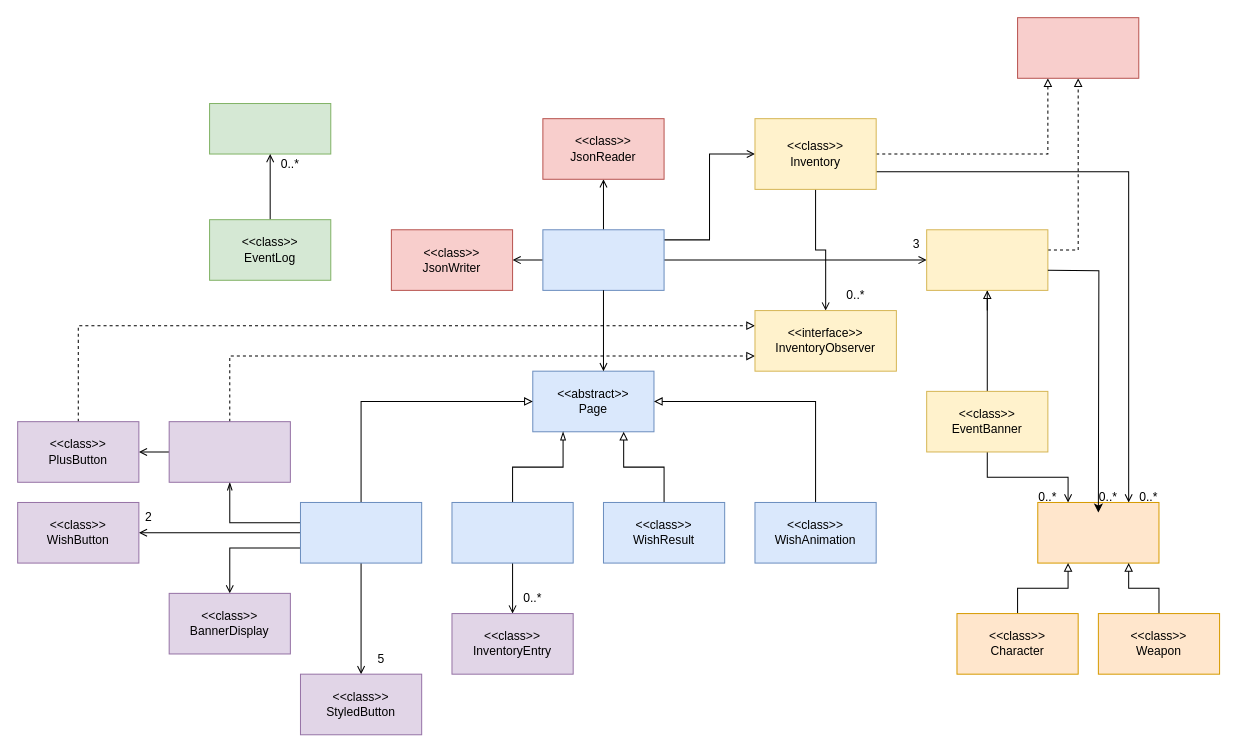
Image size: 1237x752. Some labels were removed from this diagram. Here are the shapes that lost their labels. From the top down, the box of each, then its label:
(1017, 17, 1139, 78): <<interface>> Writable
(209, 103, 331, 154): <<class>> Event
(542, 229, 664, 290): <<class>> WishSim
(926, 229, 1048, 290): <<class>> Banner
(168, 421, 290, 482): <<class>> PrimogemCounter
(299, 501, 422, 563): <<class>> BannerMenu
(451, 501, 573, 563): <<class>> InventoryMenu
(1037, 501, 1159, 563): <<abstract>> Wish
